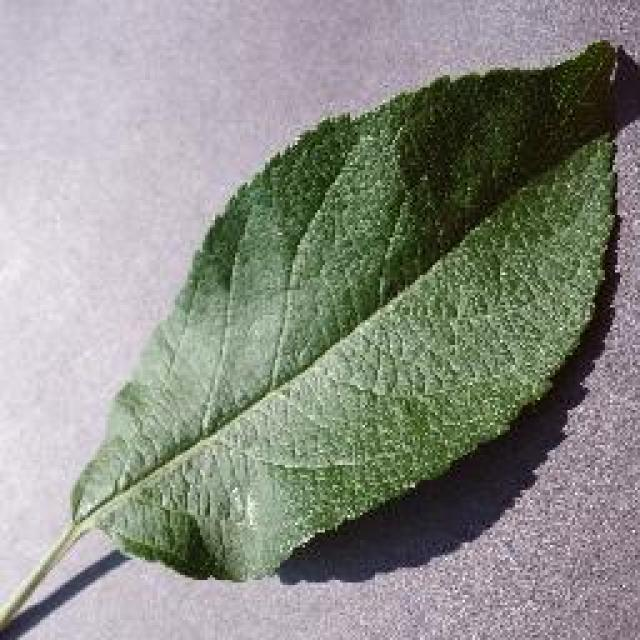apple healthy: (0, 35, 630, 637)
